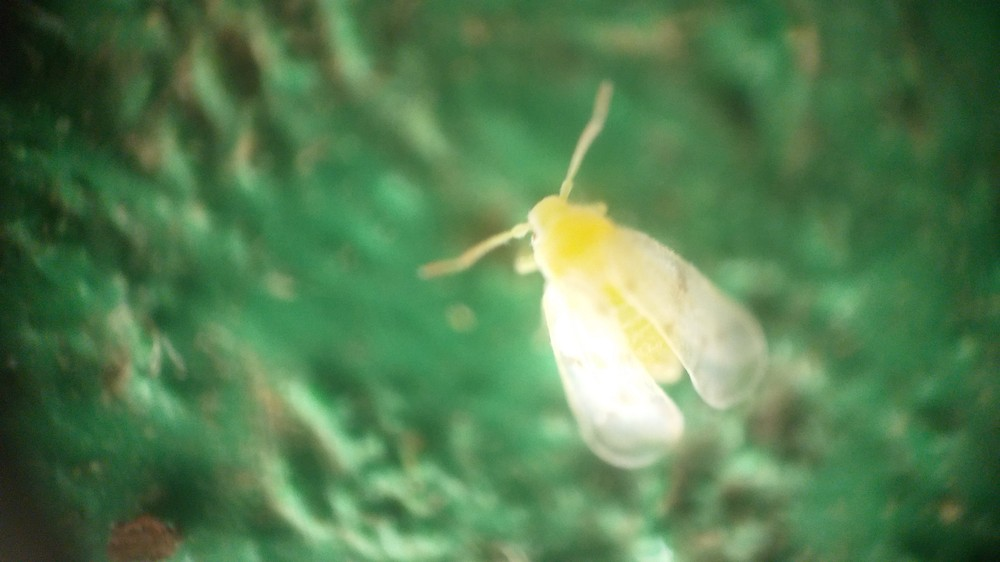Mosca Blanca: (409, 77, 810, 486)
